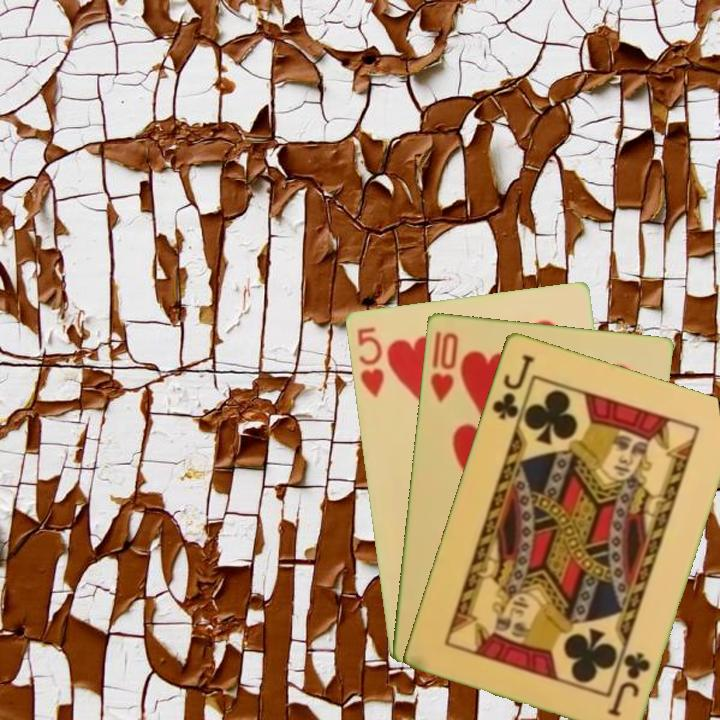10h: (426, 328, 461, 405)
5h: (353, 323, 387, 400)
Jc: (488, 350, 537, 422), (604, 648, 653, 719)
